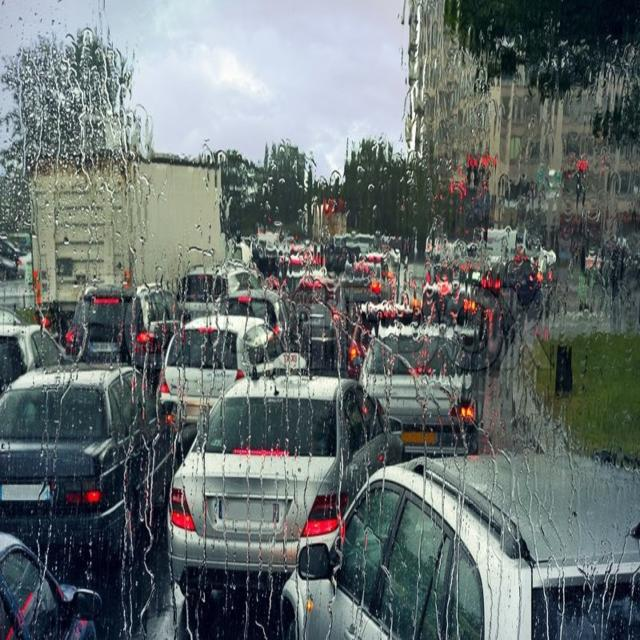car: (287, 469, 635, 635), (178, 369, 396, 564), (1, 366, 172, 536), (362, 322, 476, 448), (164, 315, 304, 414), (1, 532, 98, 638), (62, 284, 178, 362), (422, 274, 498, 357), (220, 284, 292, 350)
